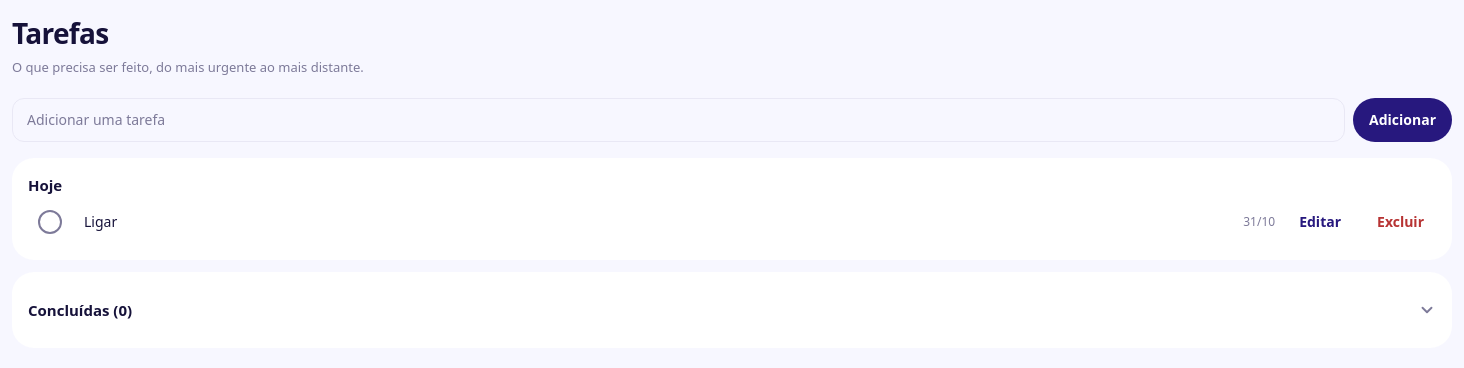
TarefasPage › escCancelaEdicaoSemEnviar
Click the button with aria-label "Editar tarefa Ligar" at (1320, 222), box top-left (1287, 200), bottom-right (1353, 244)
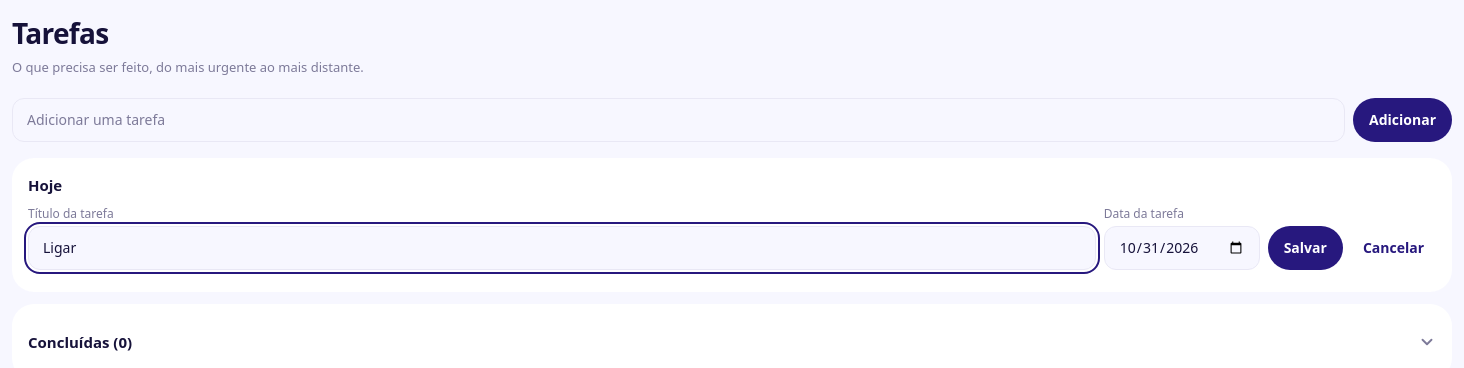
Type " mudou" into the field labelled "Título da tarefa" at (562, 248), box top-left (28, 226), bottom-right (1096, 270)
Then press Escape
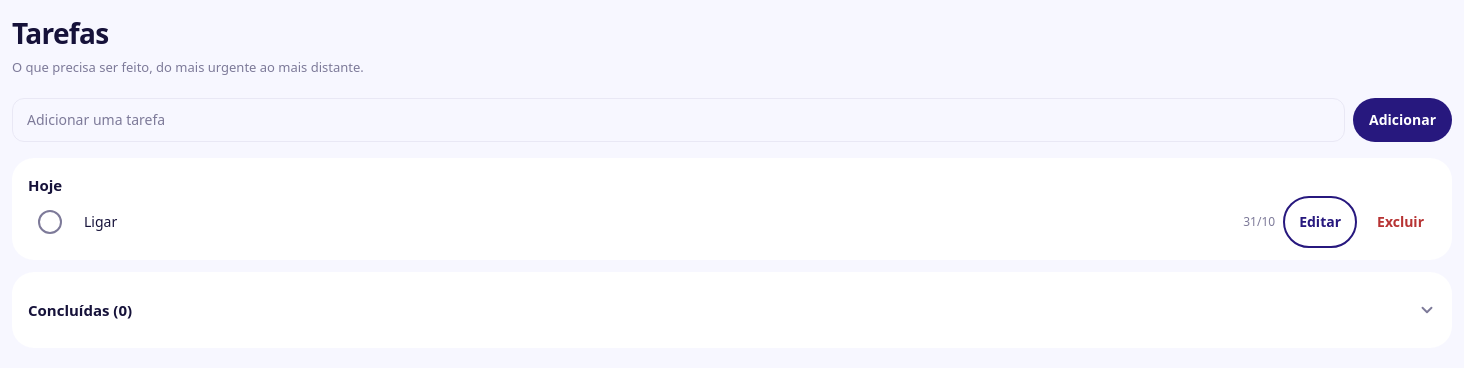
Result: the label "Título da tarefa" is gone
Result: the text "Ligar" is shown at top-left (84, 212), bottom-right (117, 231)
